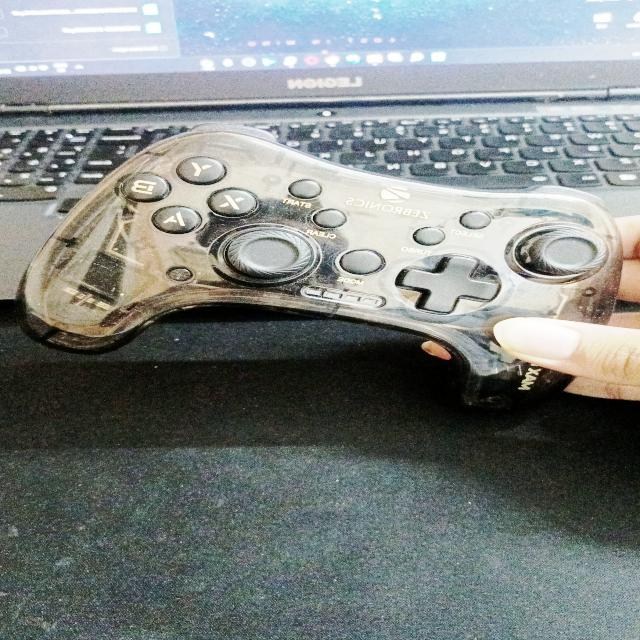gamepad: (19, 123, 626, 412)
